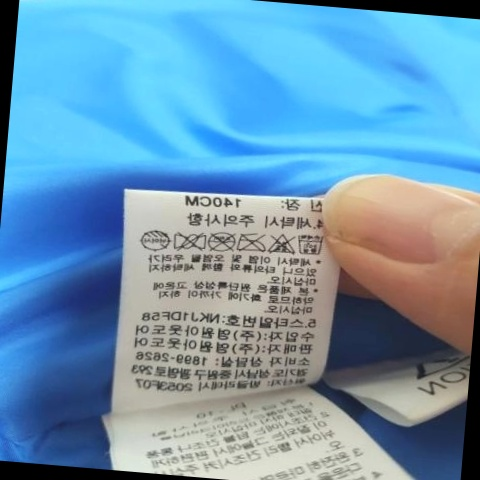30C: (295, 230, 326, 261)
DN_dry_clean: (202, 226, 238, 255)
DN_iron: (232, 224, 270, 255)
DN_wring: (169, 226, 207, 254)
dry_flat_in_shade: (134, 223, 172, 253)
non_chlorine_bleach: (264, 226, 298, 260)
